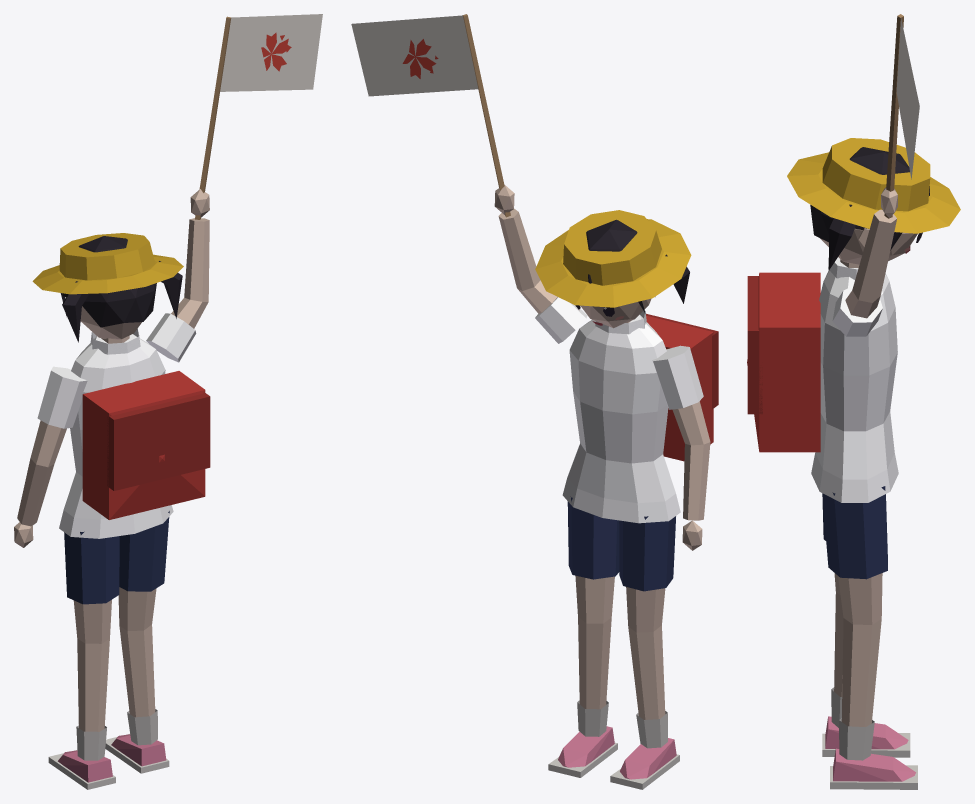
File: spectator_f.glb
The picture shows the model from 3 angles, left to right: view 1: azimuth 30°, elevation 25°; view 2: azimuth 150°, elevation 25°; view 3: azimuth 270°, elevation 25°; orthographic projection. The views are drawn at different scales.
Visible parts, largest first — view 1: spectator_f; view 2: spectator_f; view 3: spectator_f.
Part boxes in pixels (x1,y1,x2,y2): spectator_f: (14,14,322,789); spectator_f: (351,14,718,789); spectator_f: (747,14,960,789).
Bounding box in the file's own units: 0.8001 × 1.66 × 0.3911.
